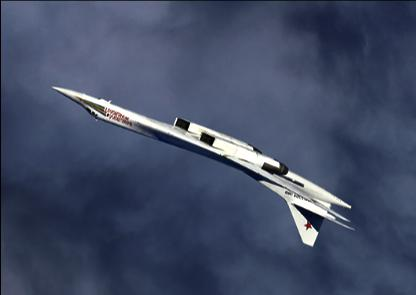Su34: (50, 86, 354, 246)
